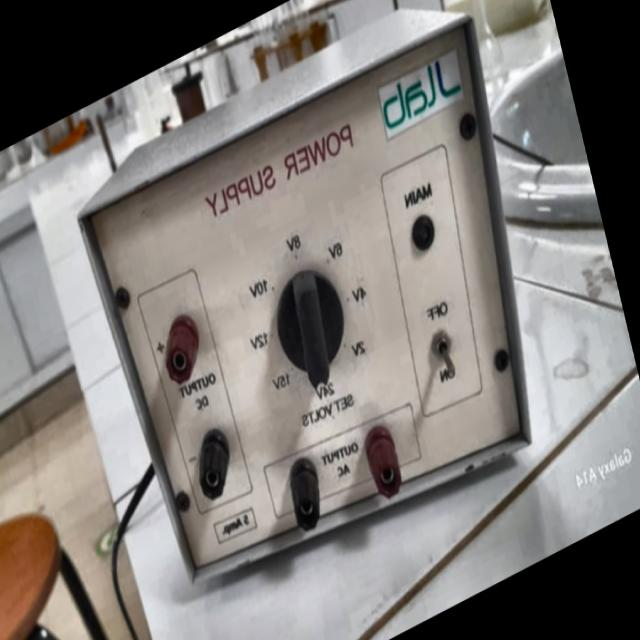Power Supply: (67, 0, 574, 623)
